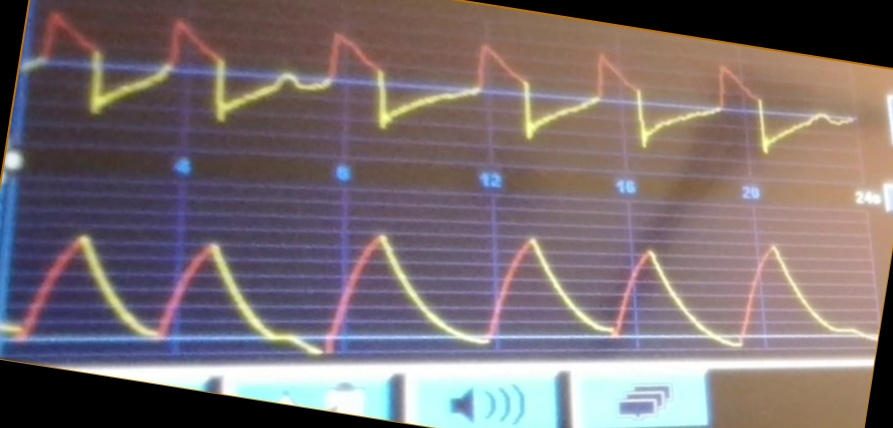Ineffective_effort Flow: (31, 9, 849, 156)
Ineffective_effort Volume: (14, 222, 874, 356)
